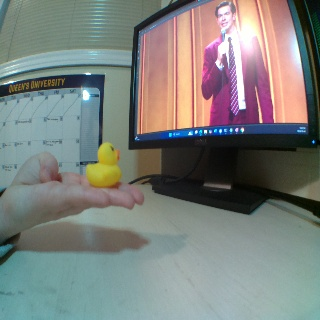duck_regular: (85, 140, 119, 187)
